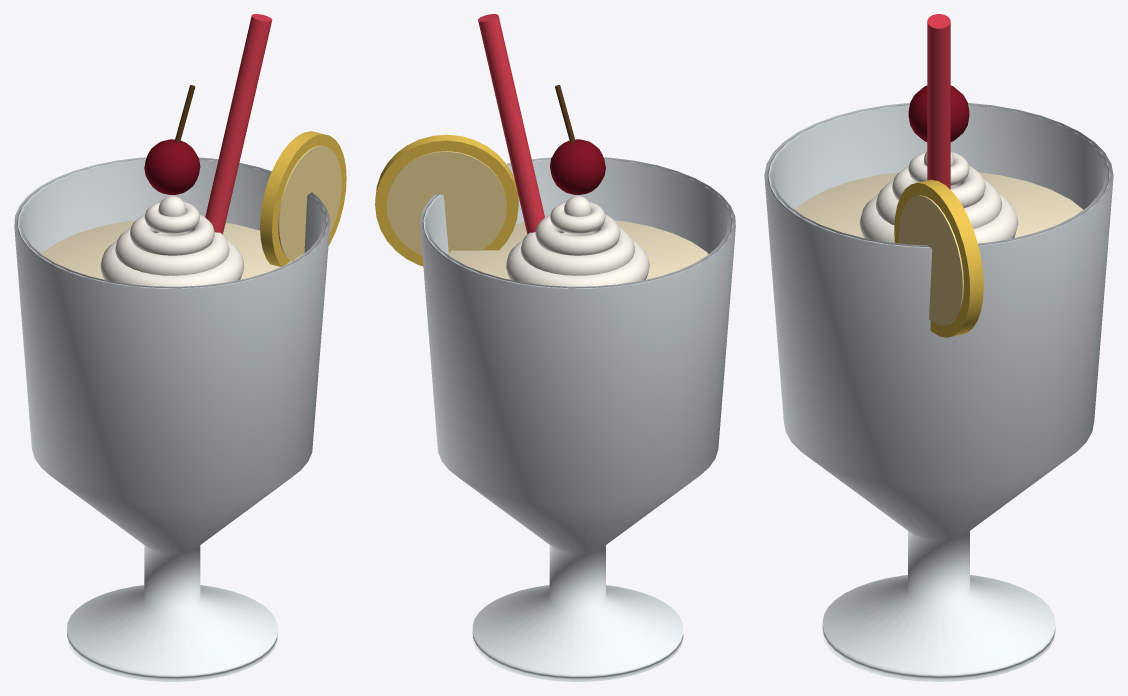
Rendered from cocktail-pina-colada.glb.
The picture shows the model from 3 angles, left to right: view 1: azimuth 30°, elevation 25°; view 2: azimuth 150°, elevation 25°; view 3: azimuth 270°, elevation 25°; orthographic projection. The views are drawn at different scales.
Size of the model in its own units: 0.1069 by 0.1883 by 0.09.
